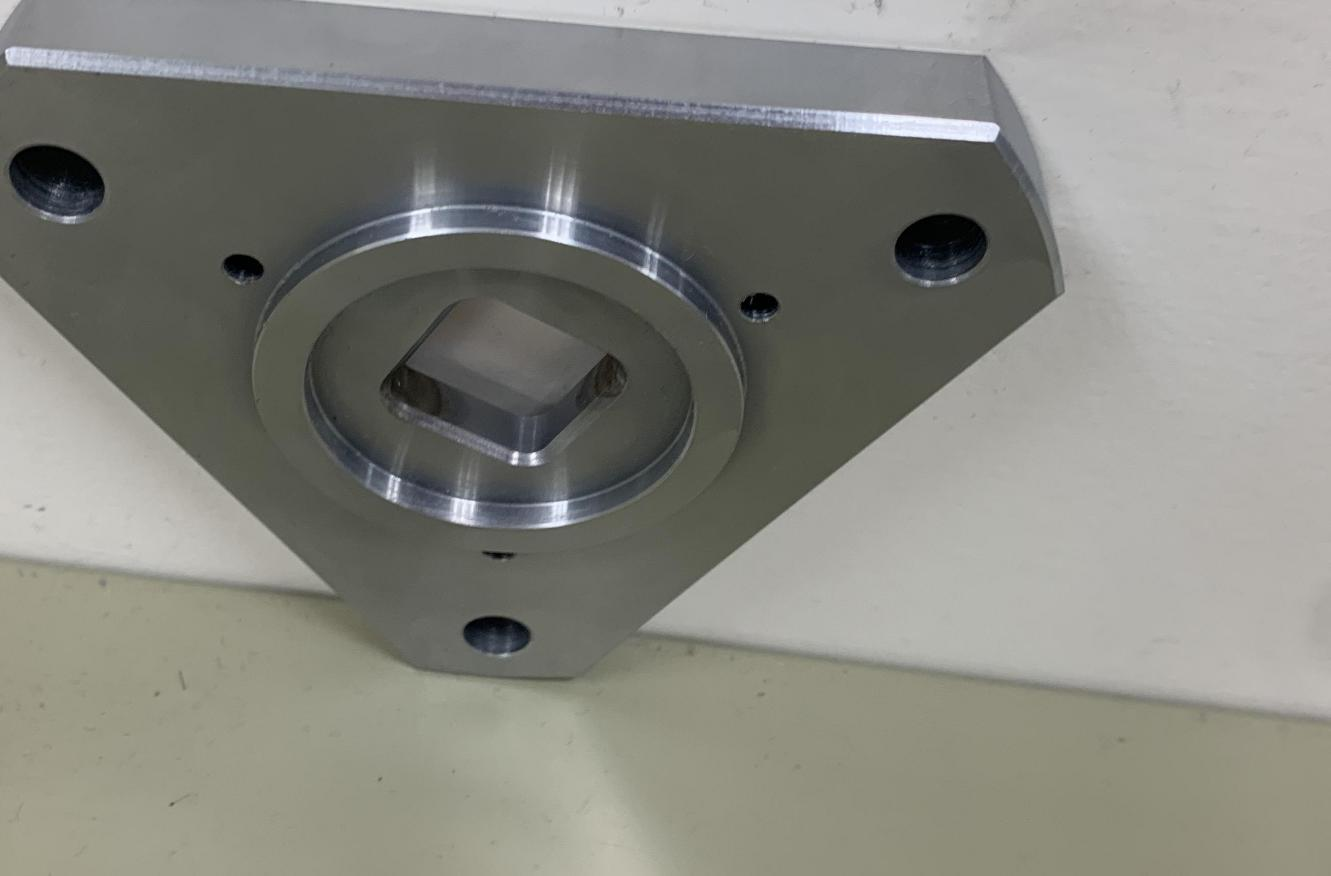hole: (880, 192, 996, 306), (0, 127, 118, 237), (440, 598, 544, 668)
